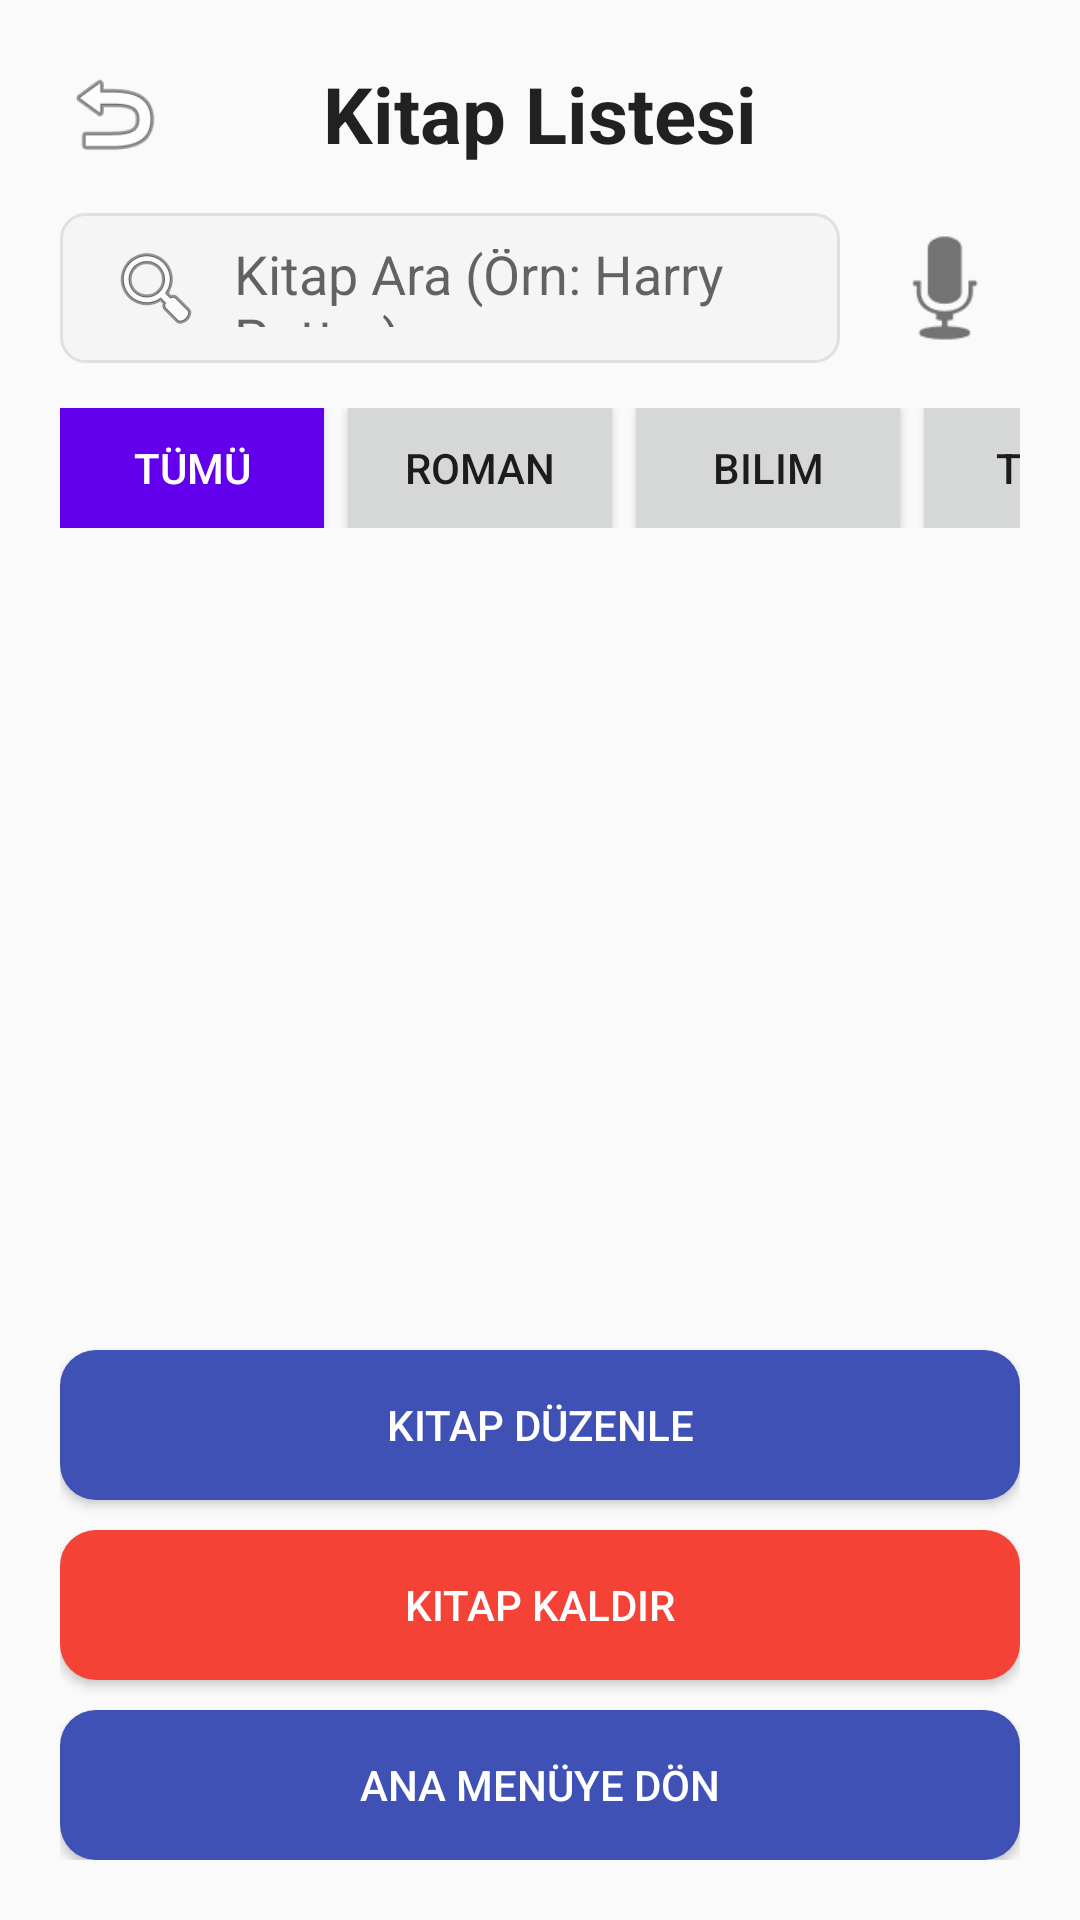

Screen size 1080*1920. Icon name, then its center in pixels as (x=x, y=y):
revert: (x=115, y=115)
speak now: (x=945, y=288)
